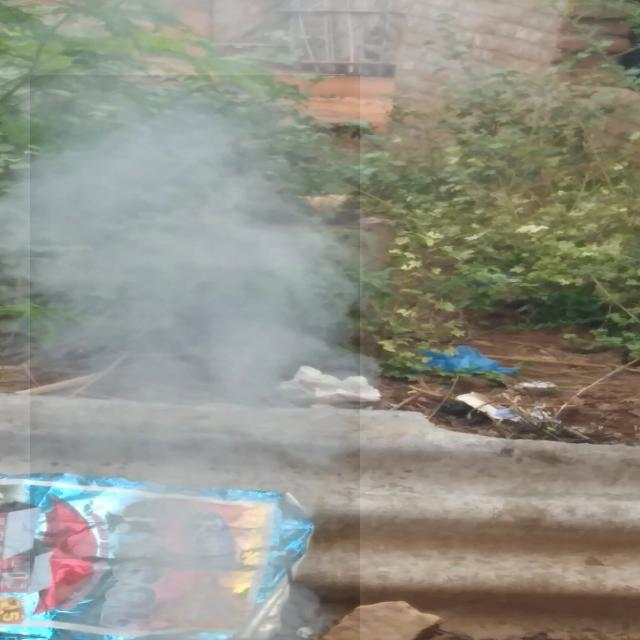Smoke: (30, 75, 360, 640)
